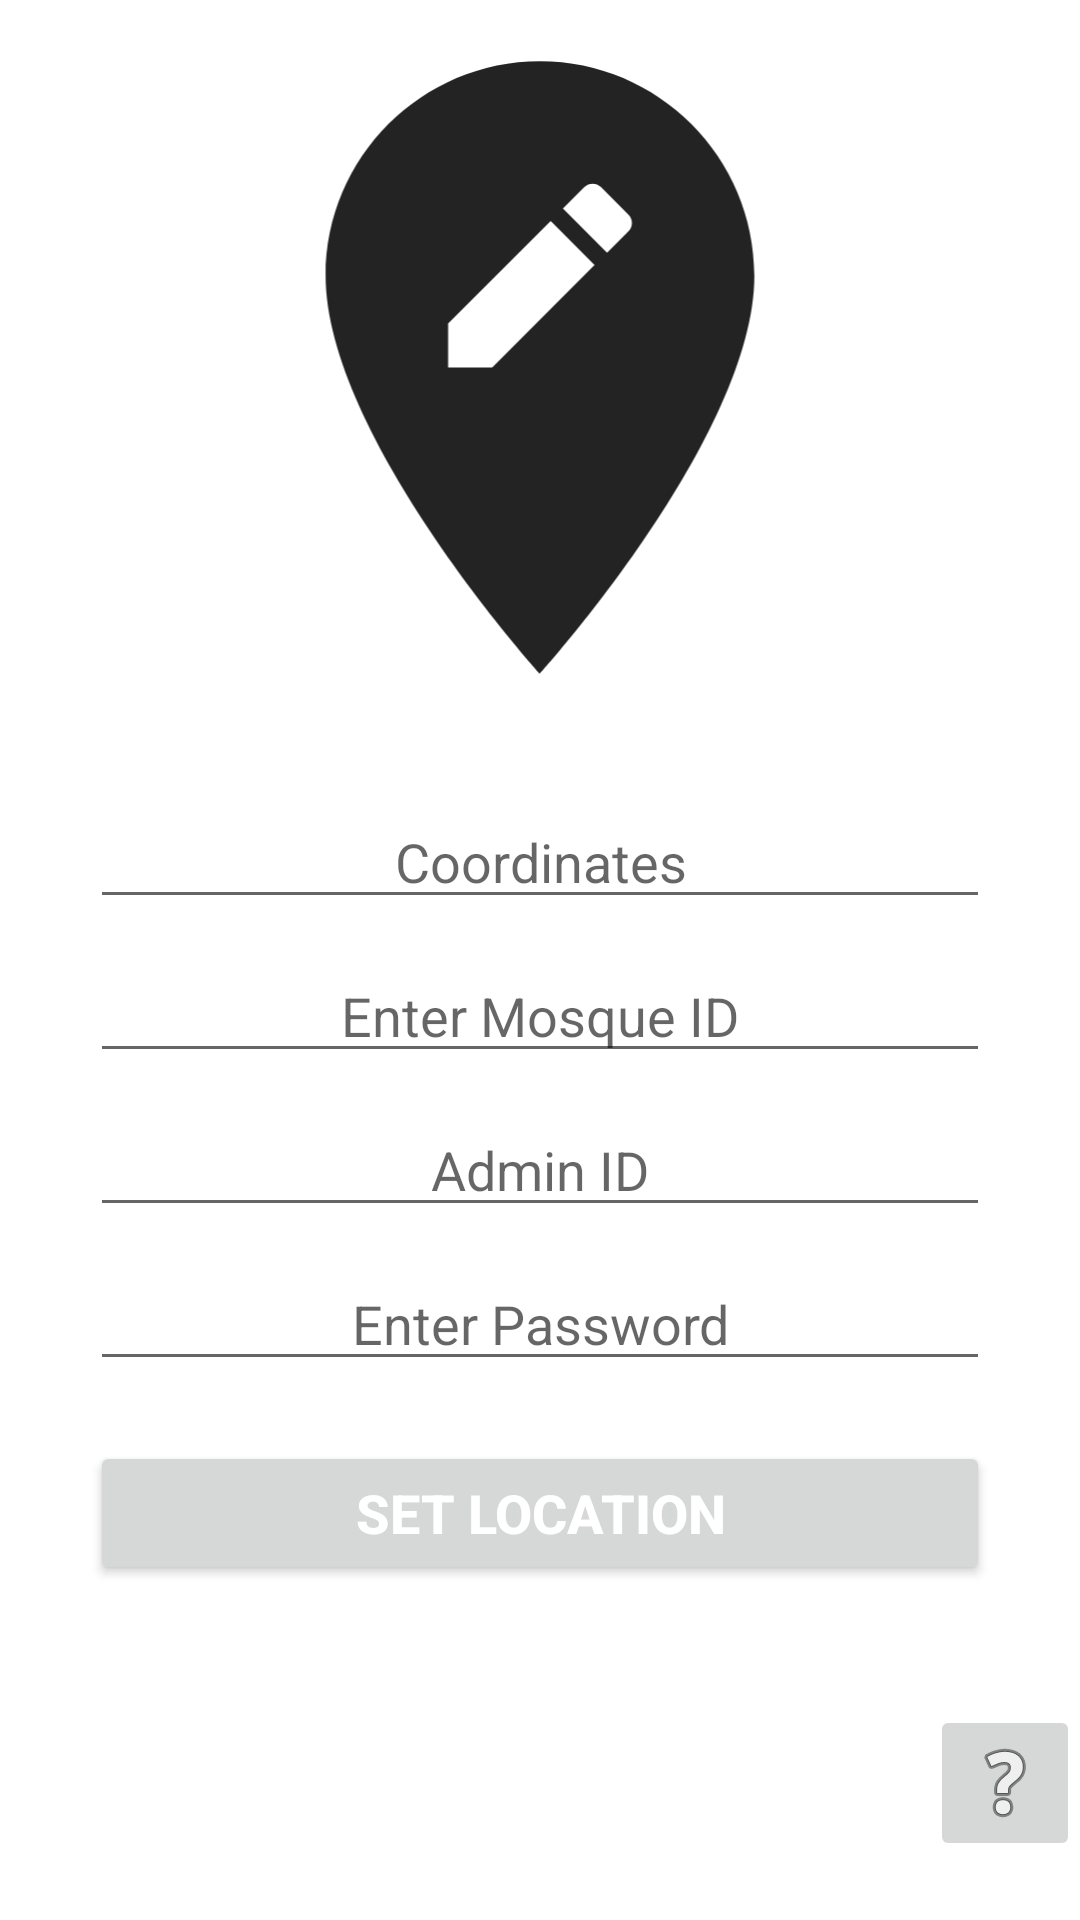

Locate icon controls on the screen. Image size 1080 x 1920, boxes as (x1, y1, x2, y2).
help: (942, 1723, 1068, 1843)
